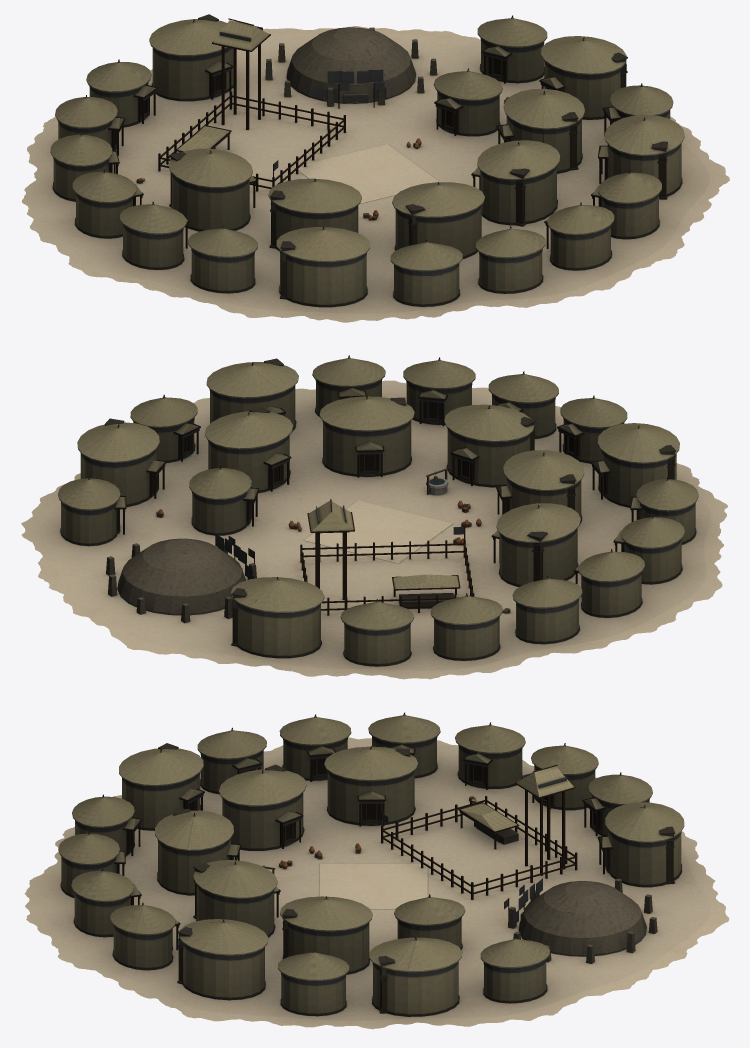
File: bronze-town-big-b-steppe.glb
3 views of the same model, one above another, from view 1: azimuth 30°, elevation 25°; view 2: azimuth 150°, elevation 25°; view 3: azimuth 270°, elevation 25° (orthographic).
Parts seen in each view (by area): view 1: LOD0; view 2: LOD0; view 3: LOD0.
Part boxes in pixels (<box>): LOD0: <box>21,14,729,322</box>; LOD0: <box>21,355,727,679</box>; LOD0: <box>24,712,729,1029</box>.
Size of what is drawn, in the model's own units: 7.92 by 1.26 by 8.06.
3 materials, 3 textured.
